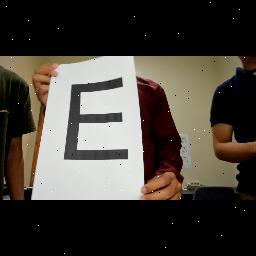e: (62, 76, 132, 168)
